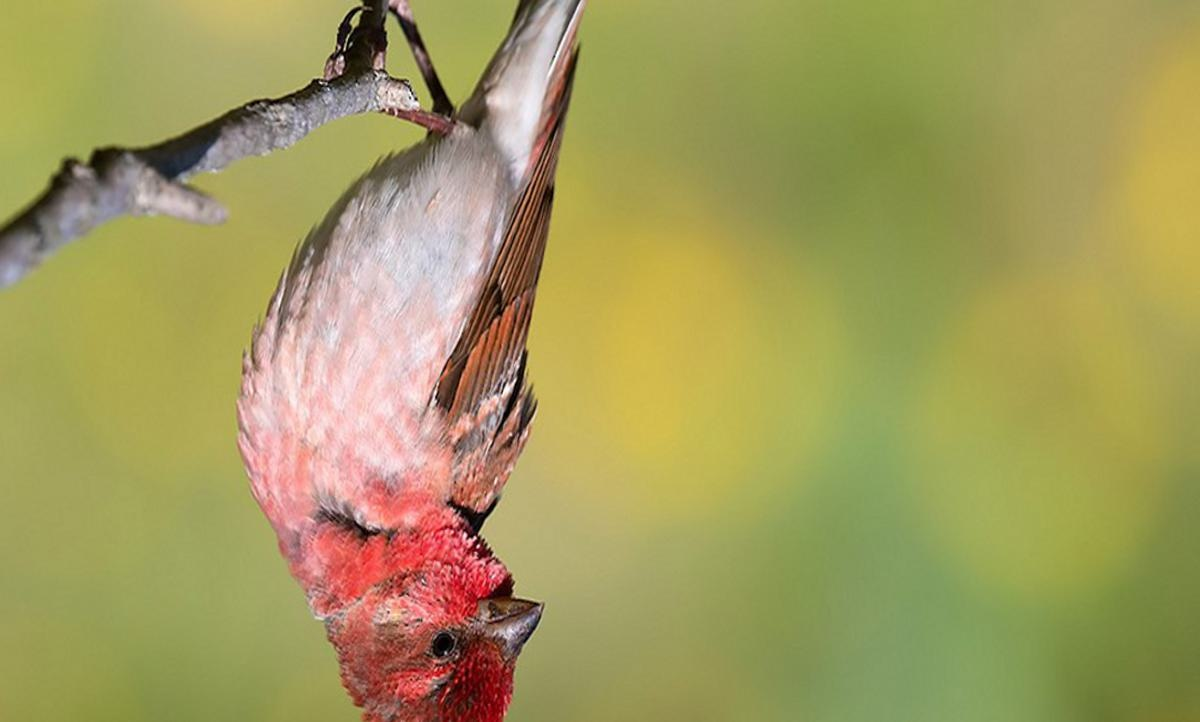rosefinch: (249, 95, 583, 715)
